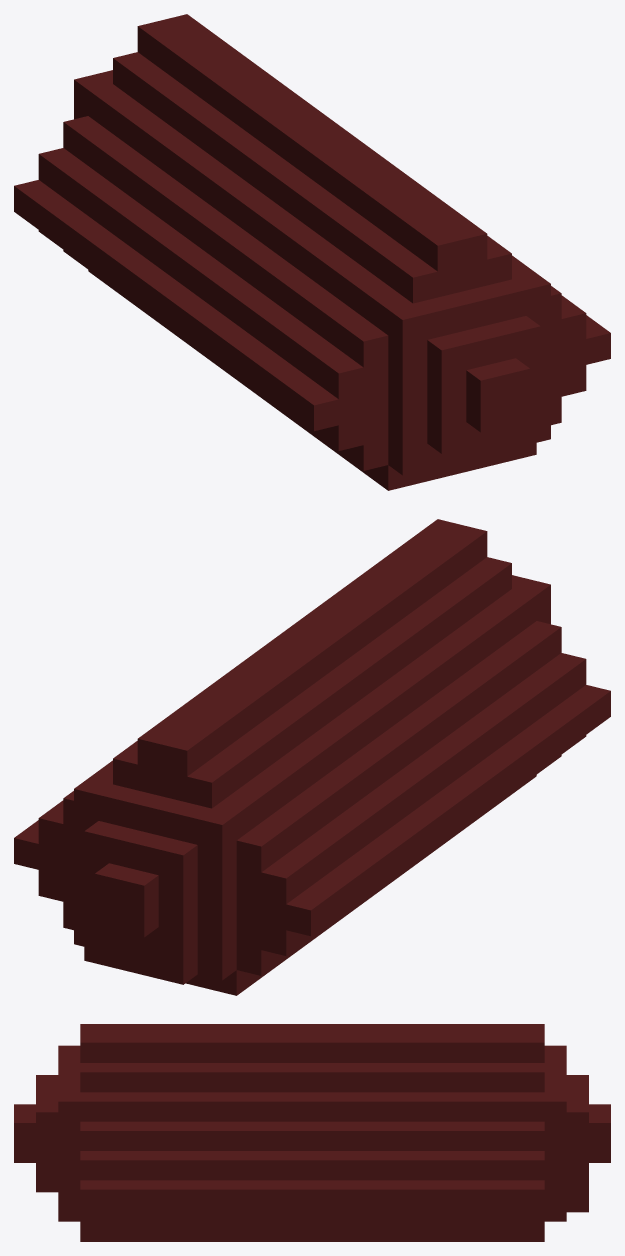
Rendered from Wood.obj.
3 views of the same model, one above another, from view 1: azimuth 30°, elevation 25°; view 2: azimuth 150°, elevation 25°; view 3: azimuth 270°, elevation 25° (orthographic). The views are drawn at different scales.
Size of the model in its own units: 1.2 by 0.9 by 2.7.
Materials: 1 (1 with a texture image).
